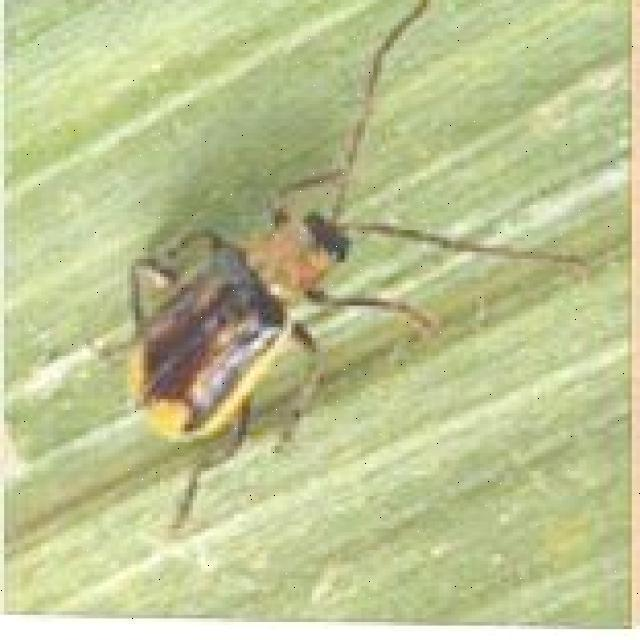trips: (90, 0, 570, 536)
